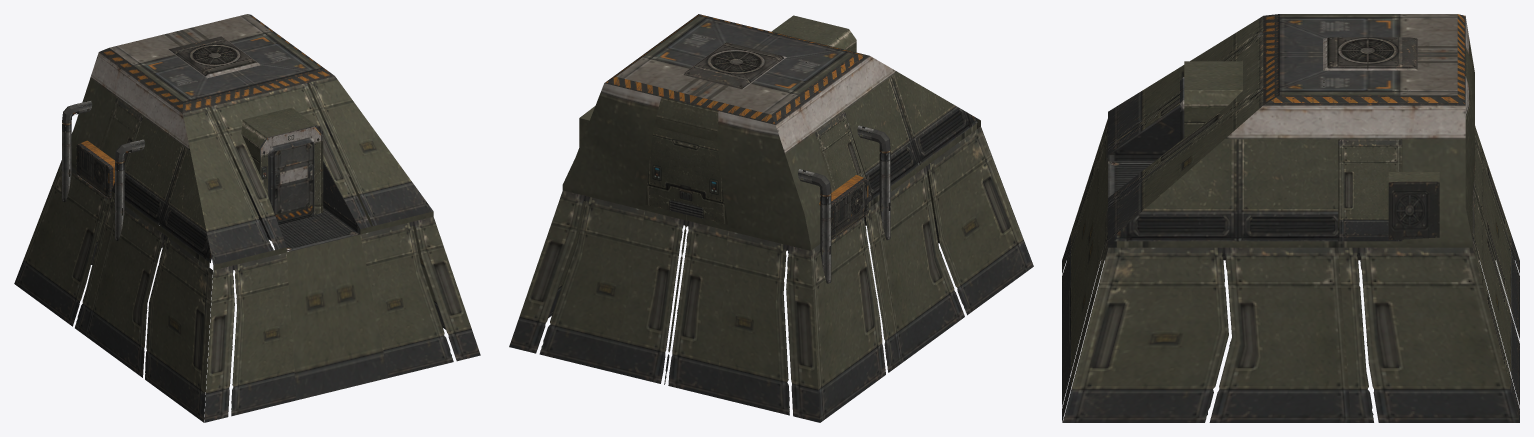
Rendered from bunker_house.dae.
3 views of the same model, side by side, from view 1: azimuth 30°, elevation 25°; view 2: azimuth 150°, elevation 25°; view 3: azimuth 270°, elevation 25° (orthographic). The views are drawn at different scales.
Visible parts, largest first — view 1: bunker_house; view 2: bunker_house; view 3: bunker_house.
Part boxes in pixels (<box>): bunker_house: <box>14,14,480,422</box>; bunker_house: <box>509,14,1033,422</box>; bunker_house: <box>1062,14,1519,422</box>.
Size of the model in its own units: 17 by 20.23 by 14.17.
